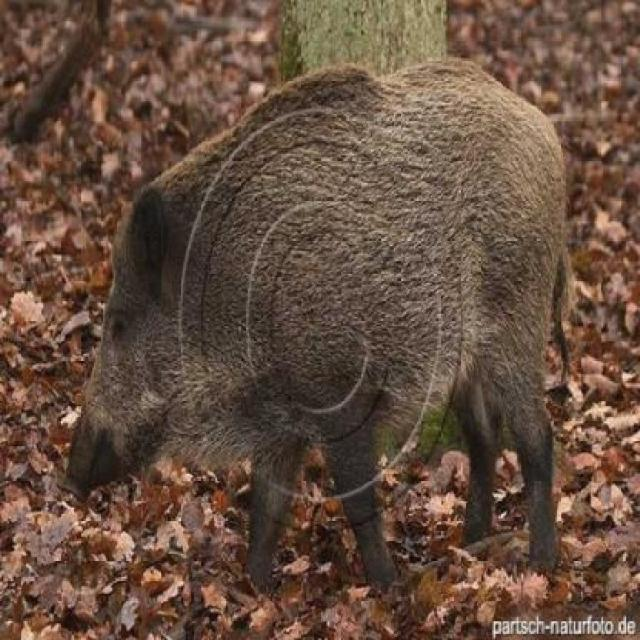Boar: (67, 70, 640, 589)
